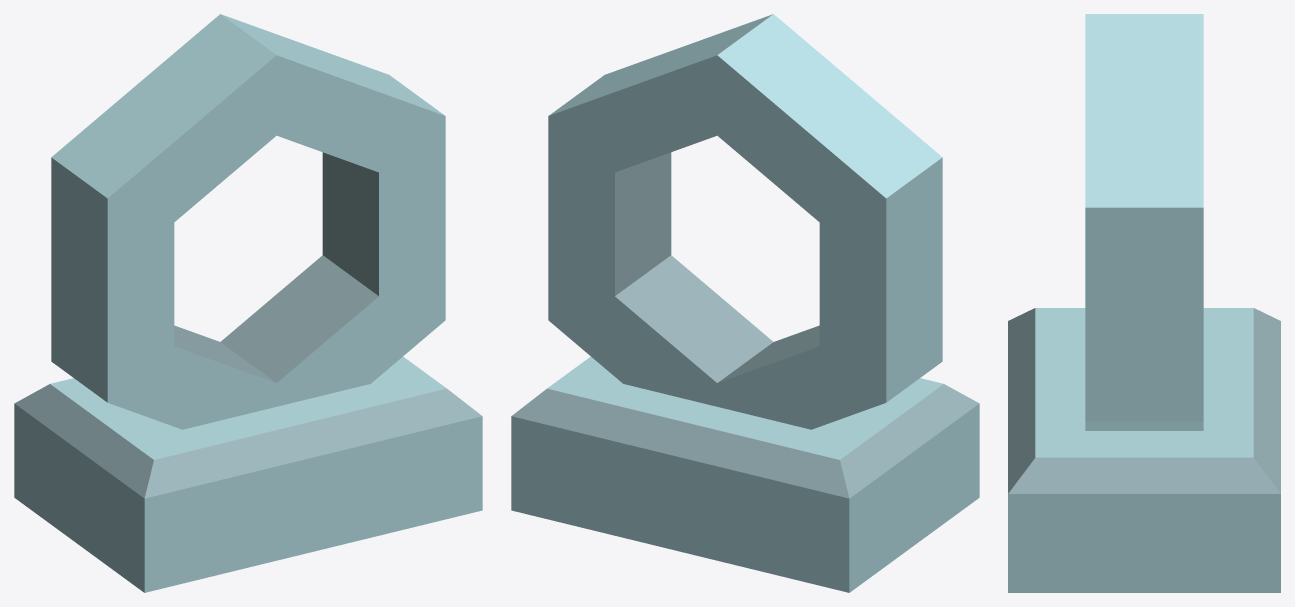
File: statue-ring.glb
3 views of the same model, side by side, from view 1: azimuth 30°, elevation 25°; view 2: azimuth 150°, elevation 25°; view 3: azimuth 270°, elevation 25° (orthographic). The views are drawn at different scales.
Parts seen in each view (by area): view 1: statue_ring; view 2: statue_ring; view 3: statue_ring.
Boxes of the visible parts, x1,y1,x2,y2 form: statue_ring: (14, 14, 482, 592); statue_ring: (511, 14, 979, 592); statue_ring: (1008, 14, 1280, 592).
Size of the model in its own units: 0.6 by 0.7964 by 0.4.
